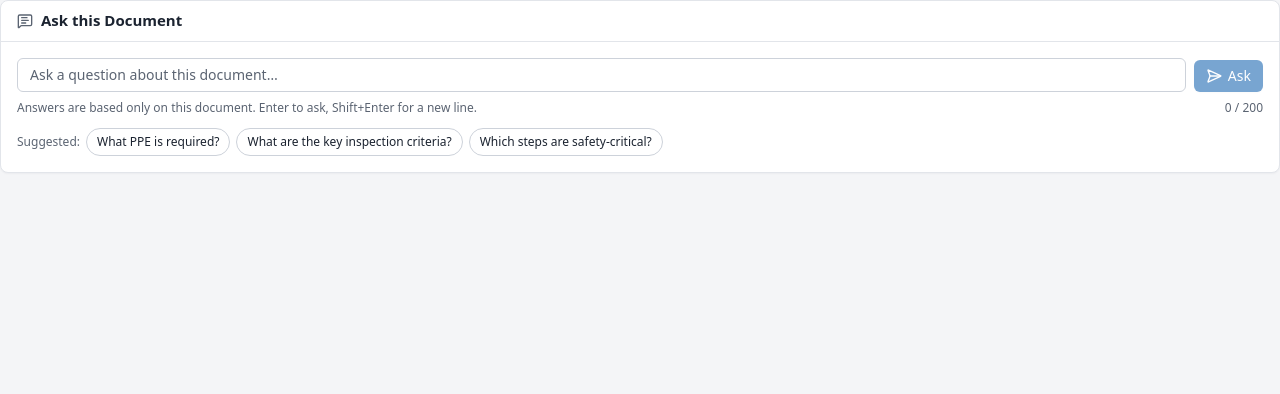
AskPanel › asks a suggested SOP question and shows errors inline with retry
Click the button "What PPE is required?".
click(158, 142)  # box [86, 128, 230, 156]
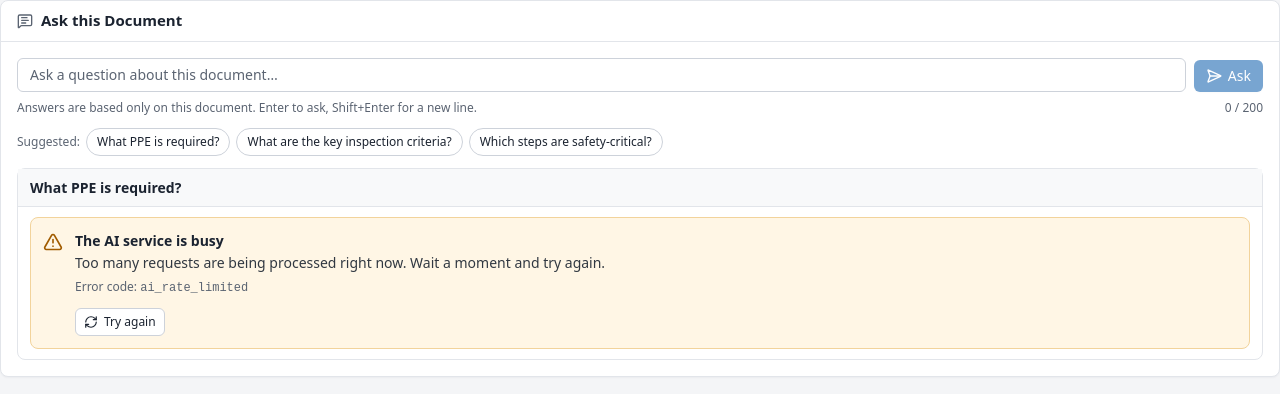
Check: the text "The AI service is busy" is shown, box [75, 230, 224, 250]
Click the button "Try again".
click(120, 322)  # box [75, 308, 165, 336]
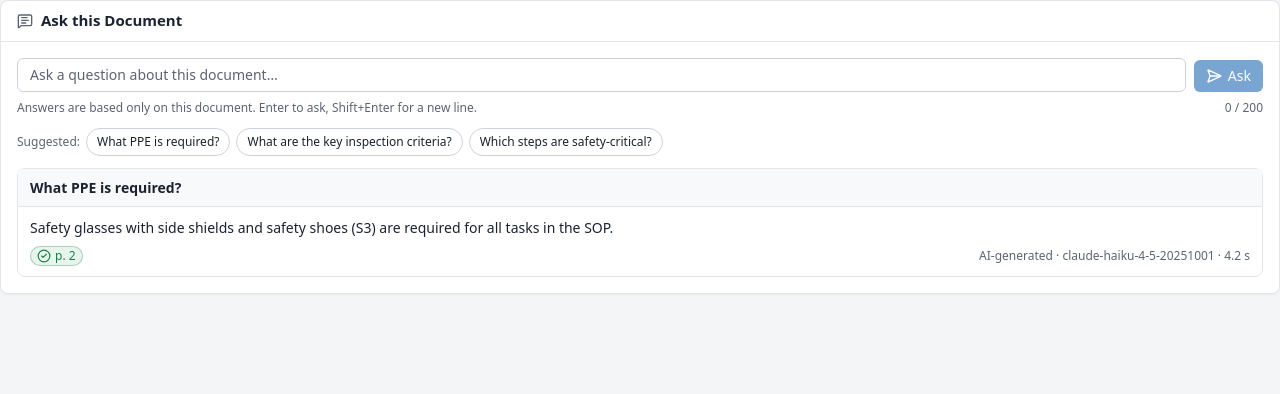
Check: the text "Safety glasses with side shields and safety shoes (S3) are required for all tasks in the SOP." is shown, box [30, 218, 613, 236]
